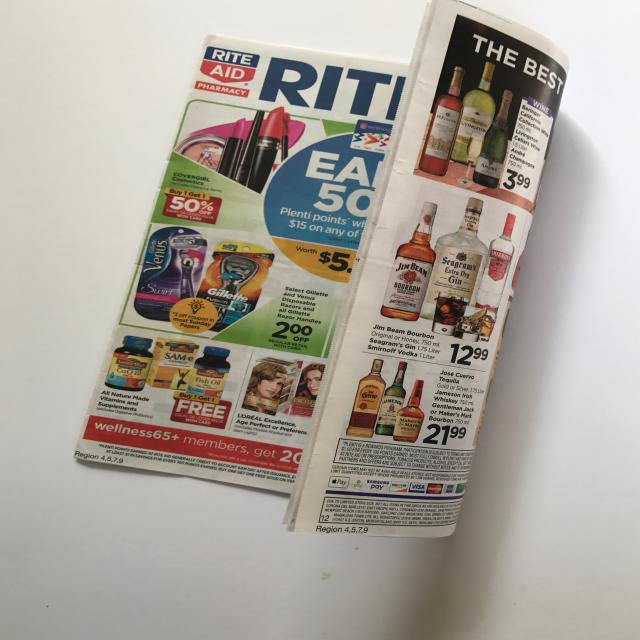paper: (58, 4, 600, 560)
